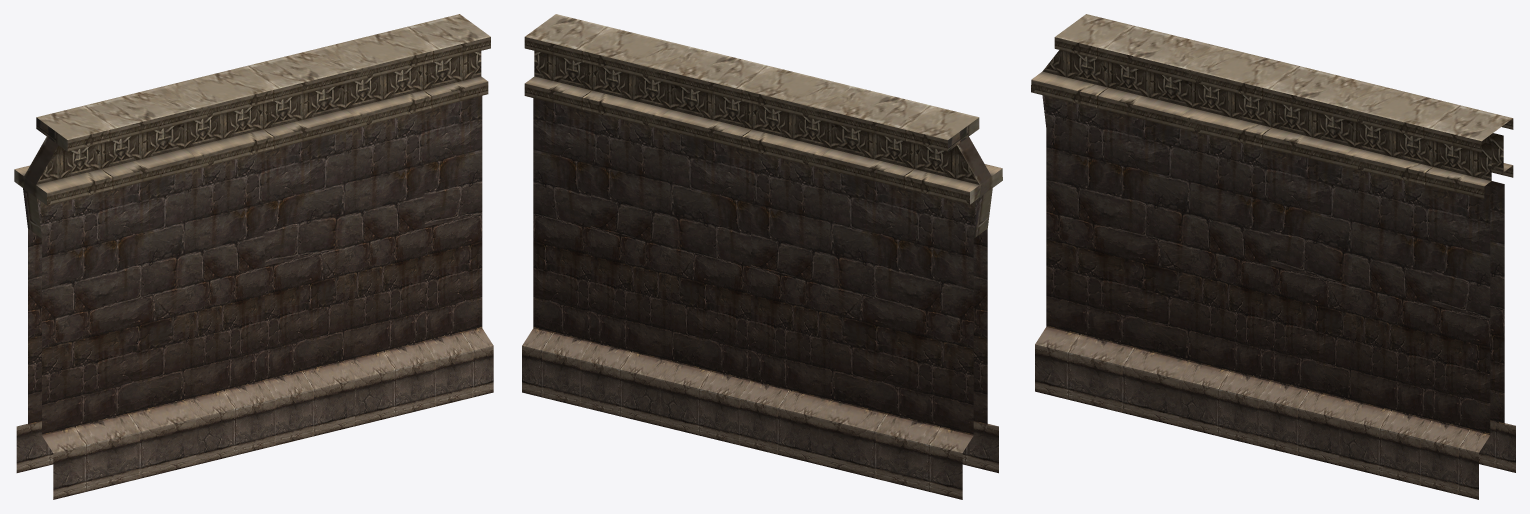
Rendered from rysd_qm_03.FBX.
3 views of the same model, side by side, from view 1: azimuth 30°, elevation 25°; view 2: azimuth 150°, elevation 25°; view 3: azimuth 330°, elevation 25° (orthographic).
Parts seen in each view (by area): view 1: rysd_qm_03; view 2: rysd_qm_03; view 3: rysd_qm_03.
Part boxes in pixels (bbox=[...]): rysd_qm_03: bbox=[14, 14, 493, 499]; rysd_qm_03: bbox=[522, 14, 1002, 499]; rysd_qm_03: bbox=[1031, 14, 1515, 499].
Bounding box in the file's own units: 996 × 756 × 141.
